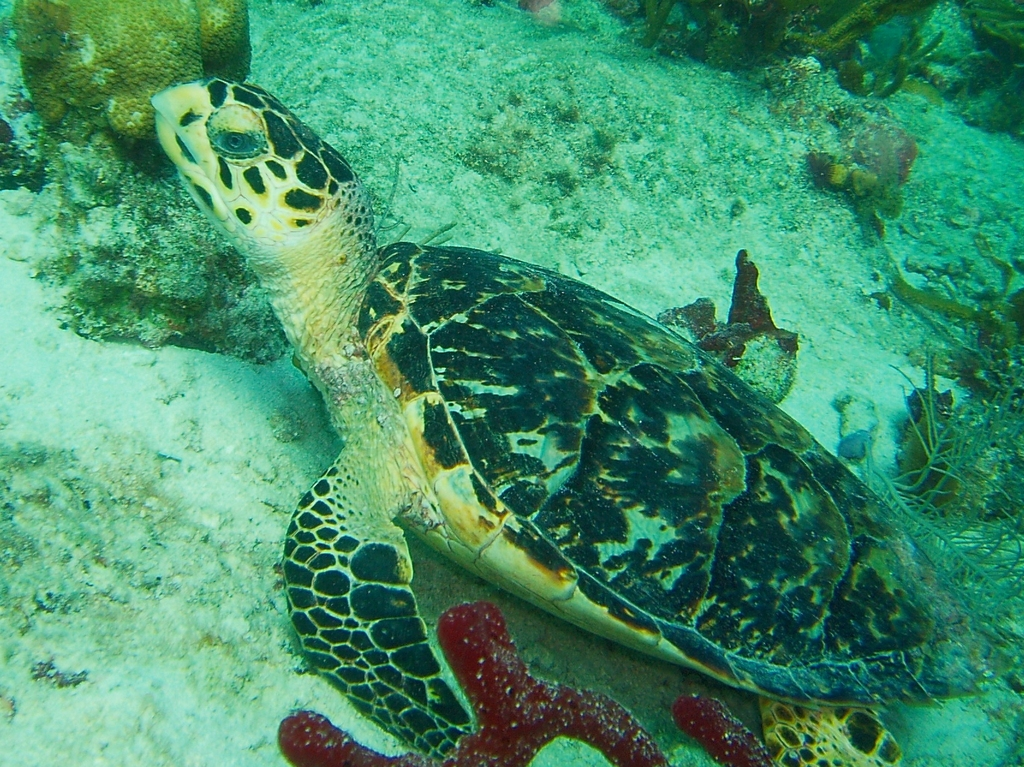Sea turtles: (144, 78, 976, 766)
